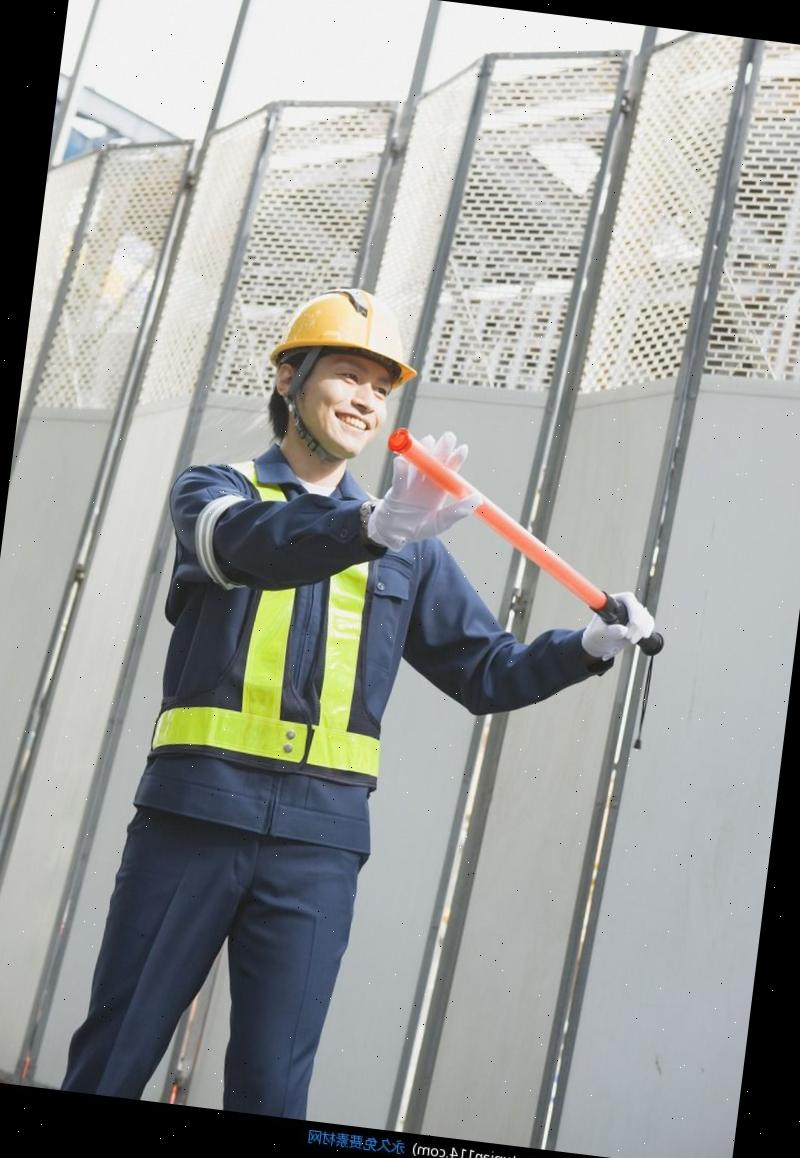helmet: (260, 274, 438, 387)
wear: (128, 450, 435, 856)
